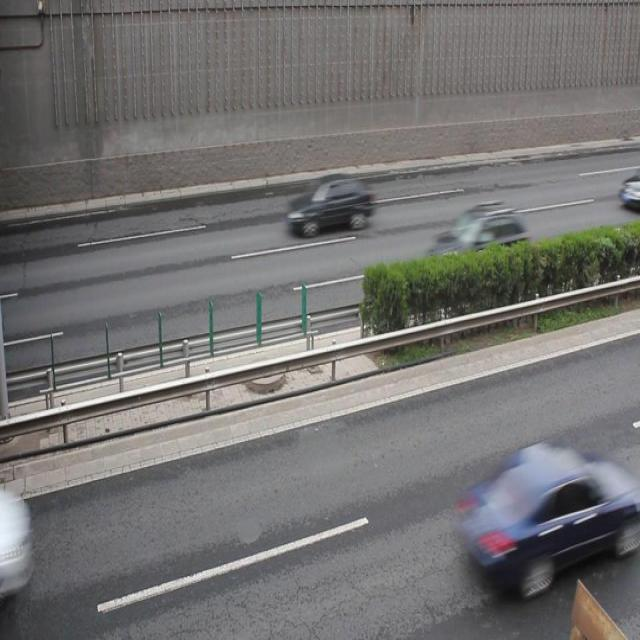car: (452, 439, 621, 596), (425, 205, 528, 271), (288, 175, 373, 234)
